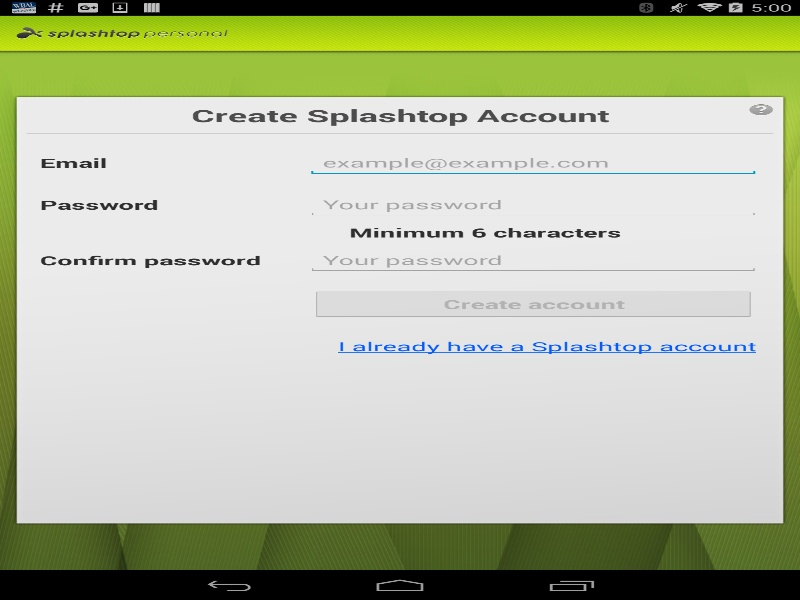Button: (310, 289, 756, 319)
Input: (306, 149, 760, 175), (306, 191, 760, 217), (306, 247, 760, 273)
